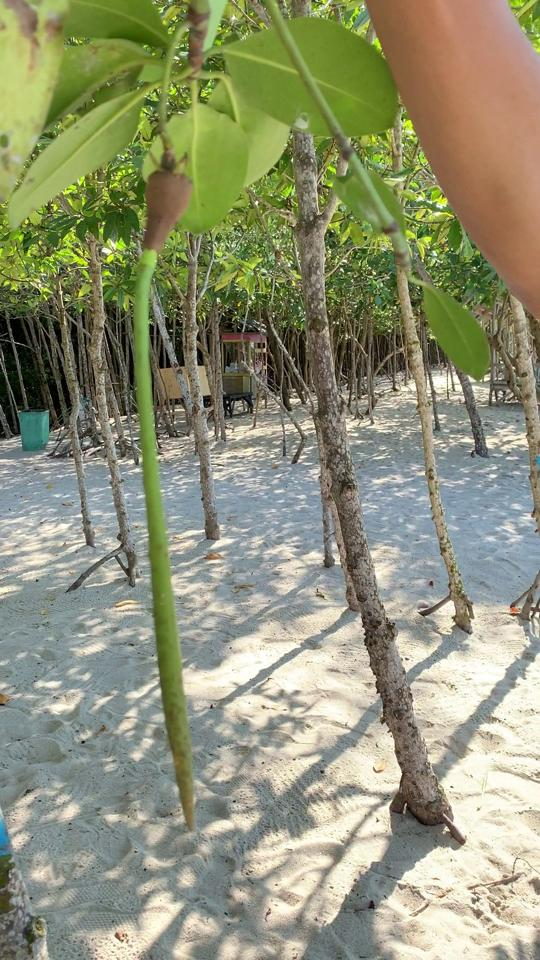setengah matang: (121, 145, 220, 840)
